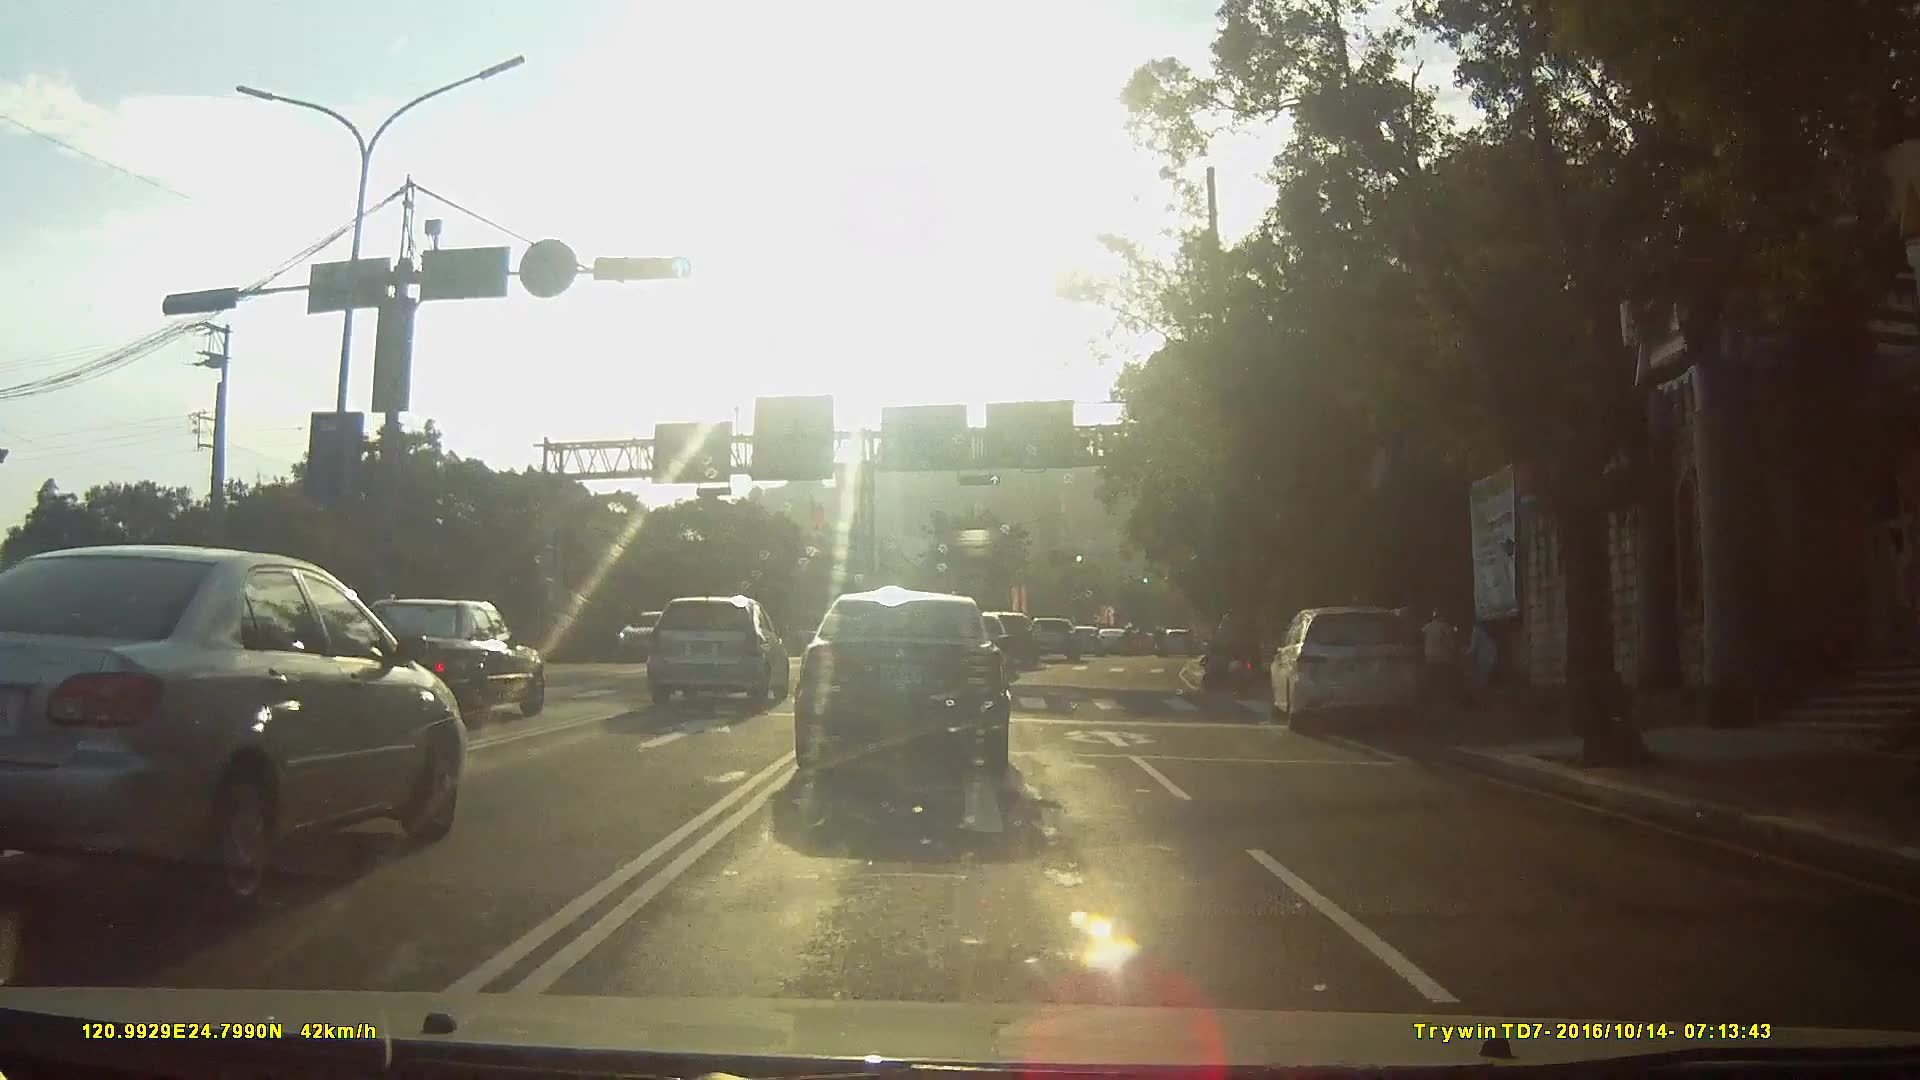pedestrian: (1425, 606, 1466, 724), (1468, 620, 1505, 690)
rider: (1205, 606, 1263, 691)
vehicle: (0, 547, 472, 916), (791, 591, 1032, 798), (337, 596, 555, 727), (1266, 600, 1446, 738), (648, 595, 795, 716), (614, 606, 687, 664), (986, 609, 1048, 667), (1031, 615, 1089, 661), (1070, 623, 1109, 655), (1102, 625, 1135, 653)
